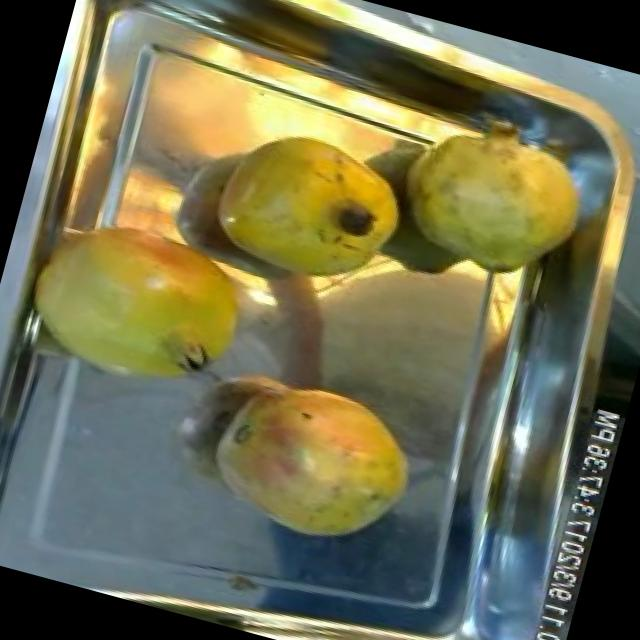fruit: (0, 183, 271, 424), (367, 91, 618, 323), (184, 349, 440, 570), (182, 104, 428, 315)
